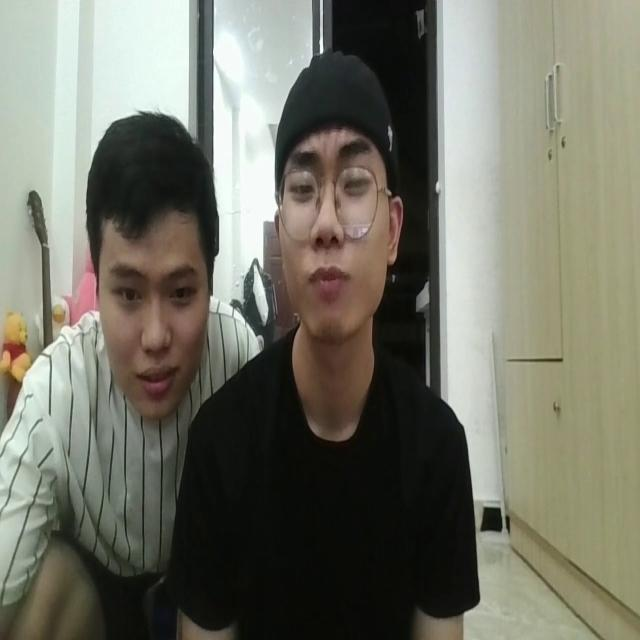extra_person: (17, 110, 221, 640)
student: (191, 53, 474, 640)
